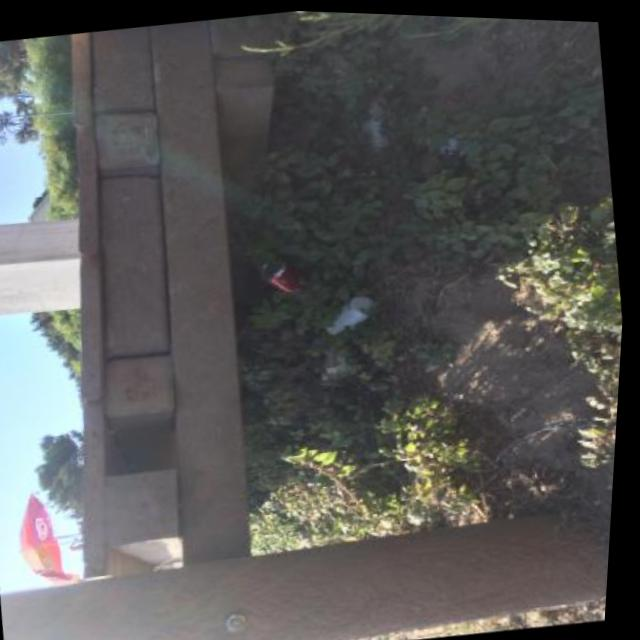cardboard: (319, 294, 382, 343)
metal: (256, 256, 306, 300)
